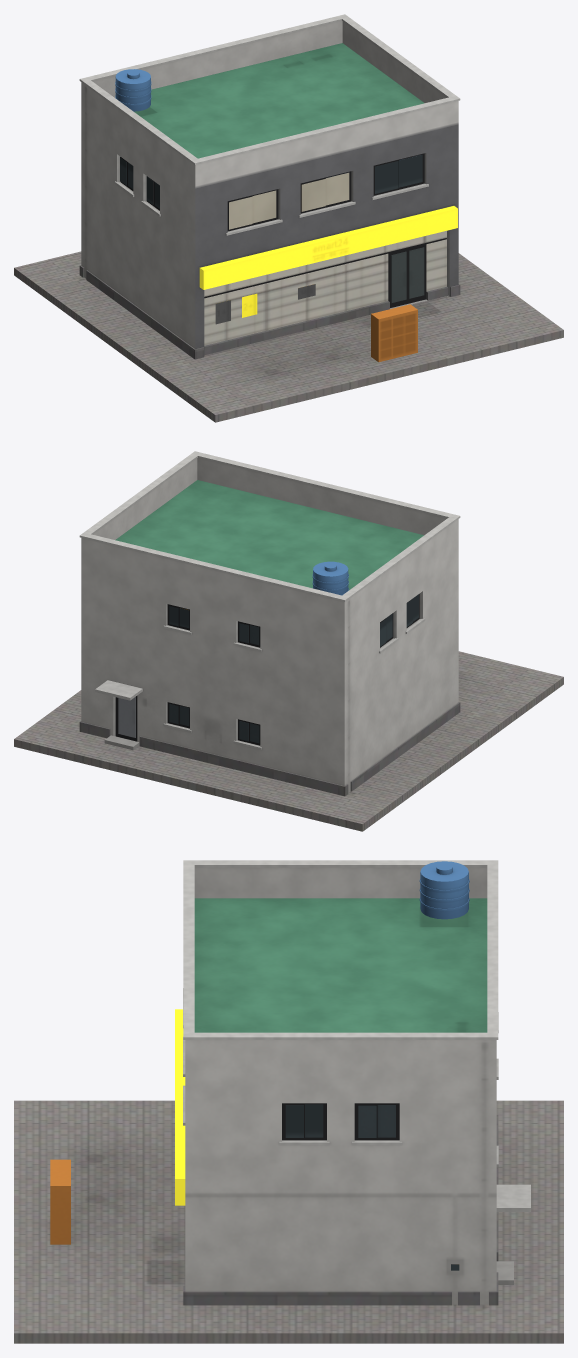
The model's file is IlsanEmart24_LOD2.fbx.
The picture shows the model from 3 angles, top to bottom: view 1: azimuth 30°, elevation 25°; view 2: azimuth 150°, elevation 25°; view 3: azimuth 270°, elevation 25°; orthographic projection. The views are drawn at different scales.
Visible parts, largest first — view 1: IlsanEmart24_LOD2; view 2: IlsanEmart24_LOD2; view 3: IlsanEmart24_LOD2.
Part boxes in pixels (x1=…): IlsanEmart24_LOD2: x1=14, y1=14, x2=563, y2=422; IlsanEmart24_LOD2: x1=14, y1=451, x2=563, y2=831; IlsanEmart24_LOD2: x1=14, y1=860, x2=563, y2=1343.
Bounding box in the file's own units: 15.9 × 9.4 × 15.9.
Materials: 1 (1 with a texture image).
